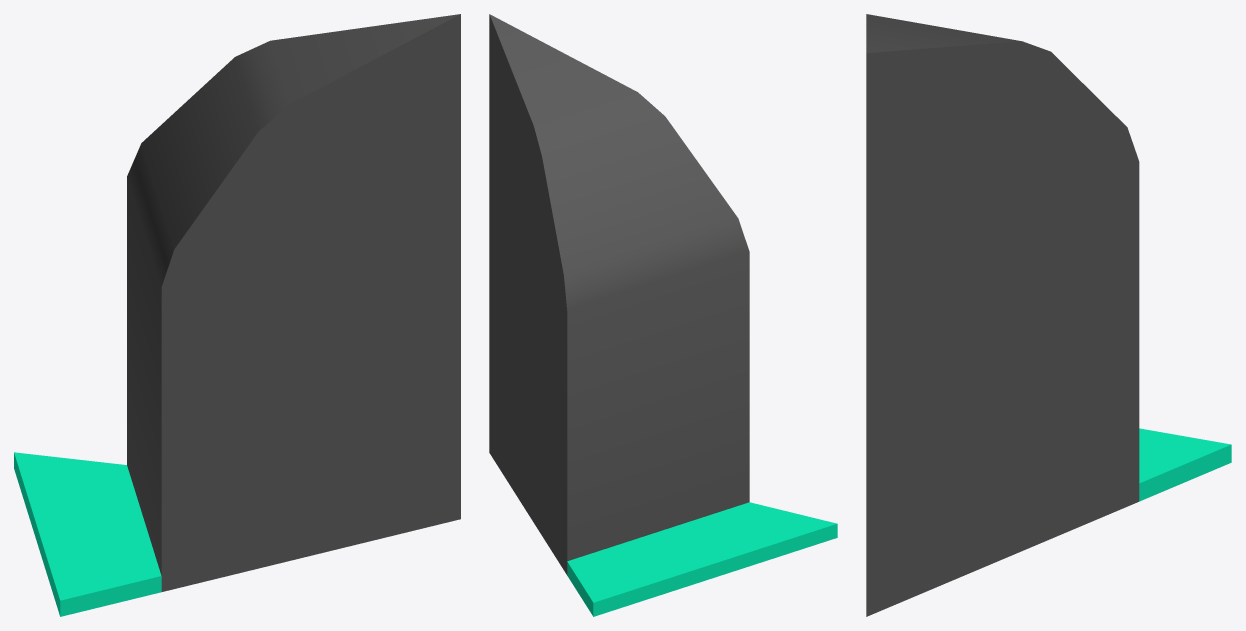
File: CorridorCornerDownPillar.fbx
The picture shows the model from 3 angles, left to right: view 1: azimuth 30°, elevation 25°; view 2: azimuth 150°, elevation 25°; view 3: azimuth 270°, elevation 25°; orthographic projection. The views are drawn at different scales.
Parts seen in each view (by area): view 1: Box055, CorridorCornerDownPillar; view 2: Box055, CorridorCornerDownPillar; view 3: Box055, CorridorCornerDownPillar.
Part boxes in pixels (x1,y1,x2,y2): Box055: (127, 14, 460, 591); CorridorCornerDownPillar: (14, 452, 161, 616); Box055: (489, 14, 749, 575); CorridorCornerDownPillar: (567, 502, 837, 616); Box055: (866, 14, 1139, 616); CorridorCornerDownPillar: (1139, 428, 1231, 501).
Size of the model in its own units: 32.88 by 23.25 by 39.61.
